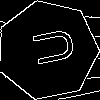U: (22, 25, 77, 70)
